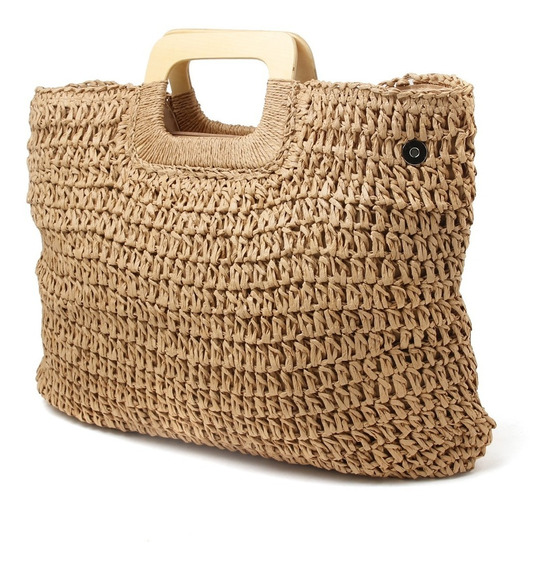cartera: (22, 28, 497, 483)
